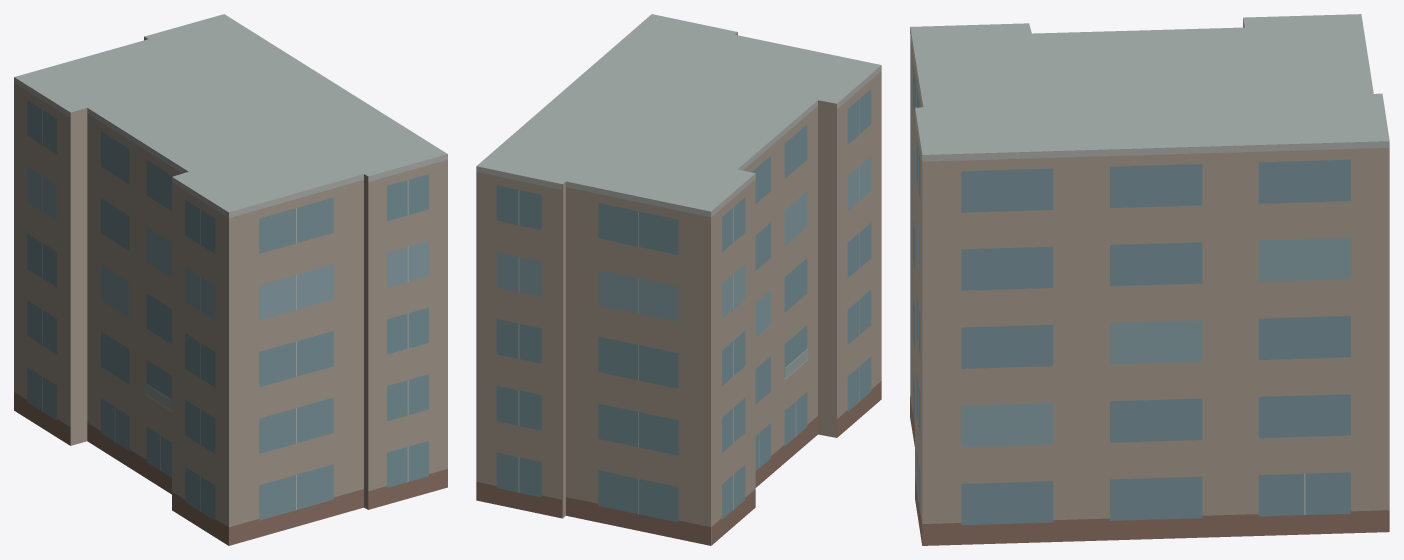
File: survey-upis-33023410.glb
3 renders of one model, left to right at view 1: azimuth 30°, elevation 25°; view 2: azimuth 150°, elevation 25°; view 3: azimuth 270°, elevation 25°, orthographic. The views are drawn at different scales.
Parts seen in each view (by area): view 1: survey-upis-33023410.tmp; view 2: survey-upis-33023410.tmp; view 3: survey-upis-33023410.tmp.
Part boxes in pixels (x1=…): survey-upis-33023410.tmp: x1=14, y1=14, x2=447, y2=545; survey-upis-33023410.tmp: x1=476, y1=14, x2=881, y2=545; survey-upis-33023410.tmp: x1=910, y1=14, x2=1389, y2=545.
Bounding box in the file's own units: 11.03 × 14.25 × 15.85.
